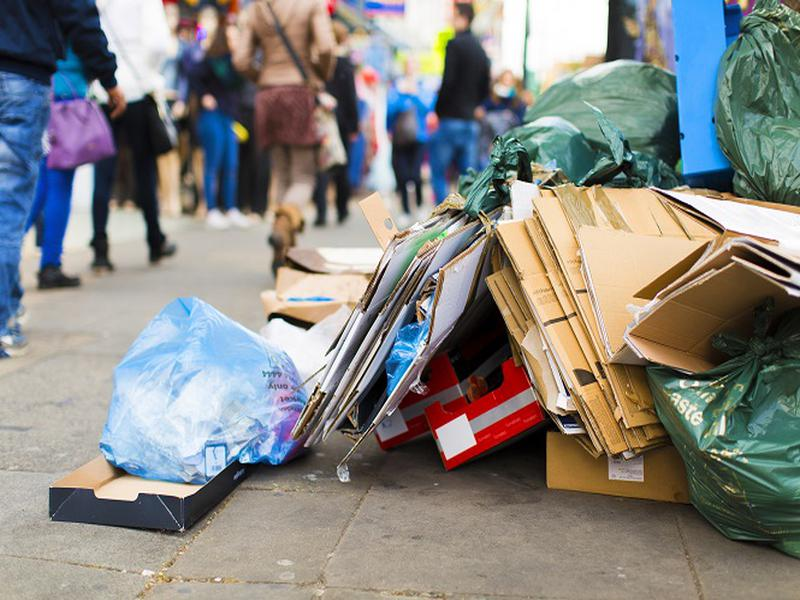cardboard: (481, 180, 667, 460), (288, 203, 498, 450), (620, 188, 800, 372), (42, 456, 251, 537), (422, 355, 546, 478), (532, 429, 694, 512)
plastic: (629, 296, 800, 546), (95, 293, 307, 481), (696, 1, 800, 206), (525, 56, 679, 184), (484, 118, 593, 184)
